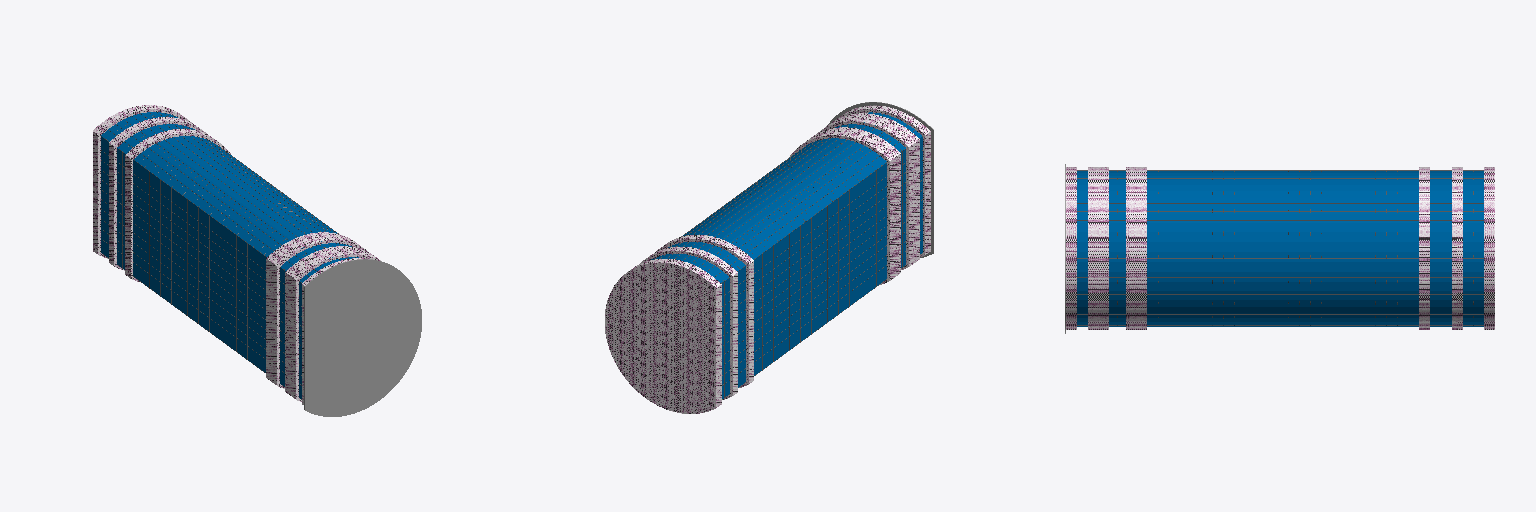
3 views of the same model, side by side, from view 1: azimuth 30°, elevation 25°; view 2: azimuth 150°, elevation 25°; view 3: azimuth 270°, elevation 25° (orthographic).
Parts seen in each view (by area): view 1: glass_01, slab_01, wall_02, wall_01, wall_03, frame_01; view 2: glass_01, wall_03, wall_02, wall_01, frame_01, slab_01; view 3: glass_01, wall_01, wall_02, frame_01.
Boxes of the visible parts, x1,y1,x2,y2 form: glass_01: [101, 112, 358, 398]; slab_01: [117, 116, 421, 416]; wall_02: [266, 232, 380, 398]; wall_01: [93, 105, 364, 404]; wall_03: [97, 107, 379, 401]; frame_01: [101, 112, 355, 399]; glass_01: [651, 112, 922, 398]; wall_03: [605, 105, 925, 413]; wall_02: [800, 113, 919, 280]; wall_01: [607, 106, 930, 413]; frame_01: [655, 112, 922, 399]; slab_01: [660, 102, 933, 267]; glass_01: [1077, 171, 1483, 326]; wall_01: [1066, 167, 1494, 329]; wall_02: [1088, 167, 1146, 329]; frame_01: [1077, 170, 1483, 325].
Bounding box in the file's own units: 1498 × 1872 × 4752.
4 materials, 1 textured.